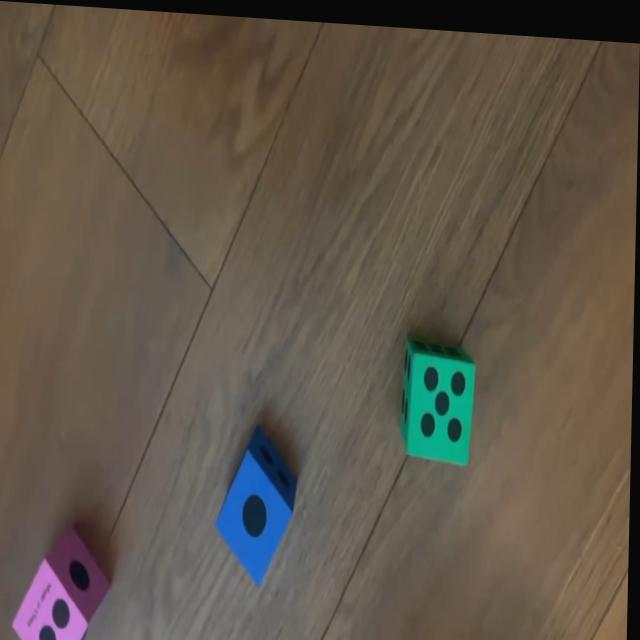cube: (216, 422, 301, 585), (401, 328, 478, 458)
